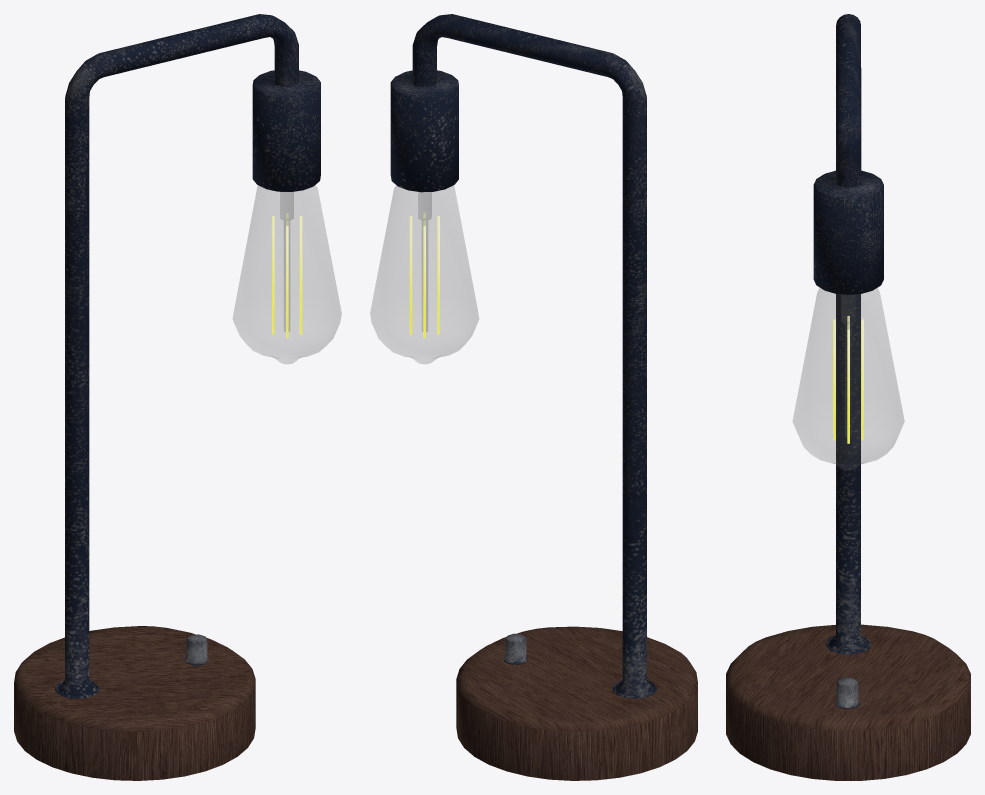
Rendered from edison_lamp.glb.
The picture shows the model from 3 angles, left to right: view 1: azimuth 30°, elevation 25°; view 2: azimuth 150°, elevation 25°; view 3: azimuth 270°, elevation 25°; orthographic projection.
Visible parts, largest first — view 1: DeskLamp, lampGlass, lampFilament; view 2: DeskLamp, lampGlass, lampFilament; view 3: DeskLamp, lampGlass, lampFilament.
Boxes of the visible parts, x1,y1,x2,y2 form: DeskLamp: [14, 14, 320, 780]; lampGlass: [233, 185, 341, 363]; lampFilament: [272, 212, 302, 338]; DeskLamp: [390, 14, 697, 780]; lampGlass: [370, 186, 478, 363]; lampFilament: [409, 212, 439, 338]; DeskLamp: [726, 14, 970, 780]; lampGlass: [793, 288, 904, 469]; lampFilament: [833, 315, 863, 443].
Size of the model in its own units: 0.2908 by 0.6247 by 0.199.
Materials: 3 (1 with a texture image).
